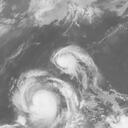cyclone: (51, 44, 91, 77), (28, 89, 61, 127)
